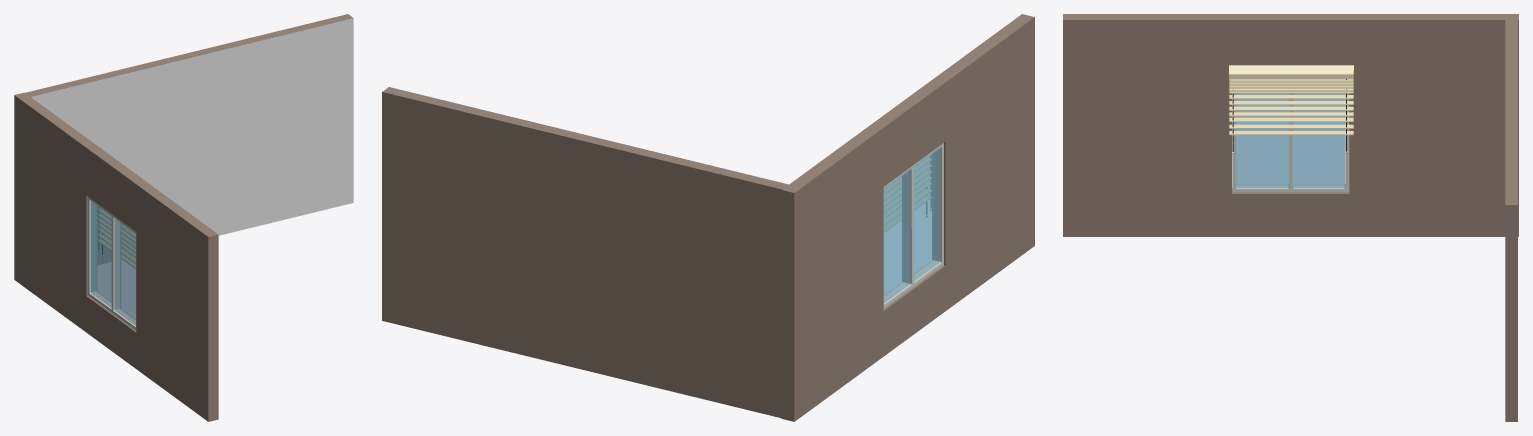
The model's file is walls_tier12.fbx.
3 renders of one model, left to right at view 1: azimuth 30°, elevation 25°; view 2: azimuth 150°, elevation 25°; view 3: azimuth 270°, elevation 25°, orthographic. The views are drawn at different scales.
Visible parts, largest first — view 1: Cube.007, Cube, Cube.003, Cube.001; view 2: Cube.007, Cube, Cube.003, Cube.001; view 3: Cube, Cube.003, Cube.007, Cube.002, Cube.001, Cube.014, Cube.020, Cube.017, Cube.016, Cube.018, Cube.019, Cube.015.
Part boxes in pixels (x1=…): Cube.007: x1=24, y1=14, x2=353, y2=264; Cube: x1=14, y1=92, x2=218, y2=421; Cube.003: x1=91, y1=201, x2=135, y2=325; Cube.001: x1=87, y1=197, x2=136, y2=330; Cube.007: x1=382, y1=87, x2=788, y2=418; Cube: x1=781, y1=14, x2=1034, y2=421; Cube.003: x1=884, y1=148, x2=939, y2=302; Cube.001: x1=883, y1=143, x2=943, y2=308; Cube: x1=1063, y1=14, x2=1518, y2=236; Cube.003: x1=1236, y1=93, x2=1344, y2=187; Cube.007: x1=1505, y1=19, x2=1517, y2=421; Cube.002: x1=1229, y1=65, x2=1353, y2=79; Cube.001: x1=1232, y1=93, x2=1349, y2=192; Cube.014: x1=1229, y1=95, x2=1353, y2=99; Cube.020: x1=1229, y1=131, x2=1353, y2=135; Cube.017: x1=1229, y1=112, x2=1353, y2=116; Cube.016: x1=1229, y1=106, x2=1353, y2=110; Cube.018: x1=1229, y1=117, x2=1353, y2=121; Cube.019: x1=1229, y1=124, x2=1353, y2=128; Cube.015: x1=1229, y1=101, x2=1353, y2=104.
Size of the model in its own units: 653 by 346 by 658.
